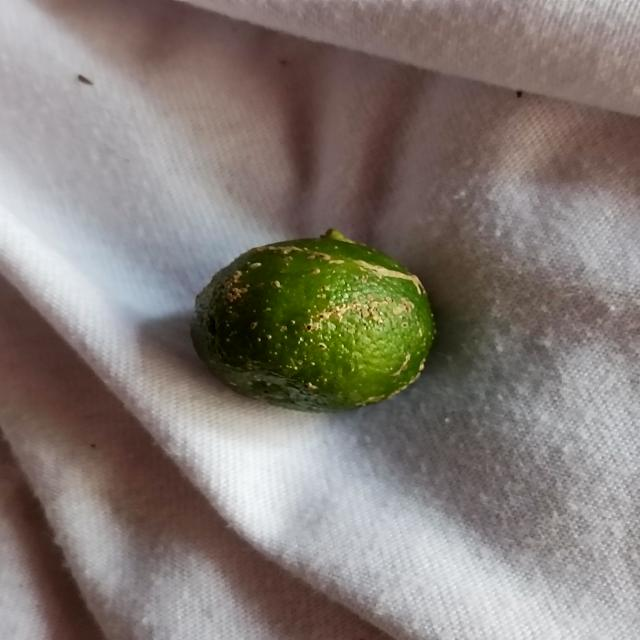scab: (197, 227, 441, 417)
